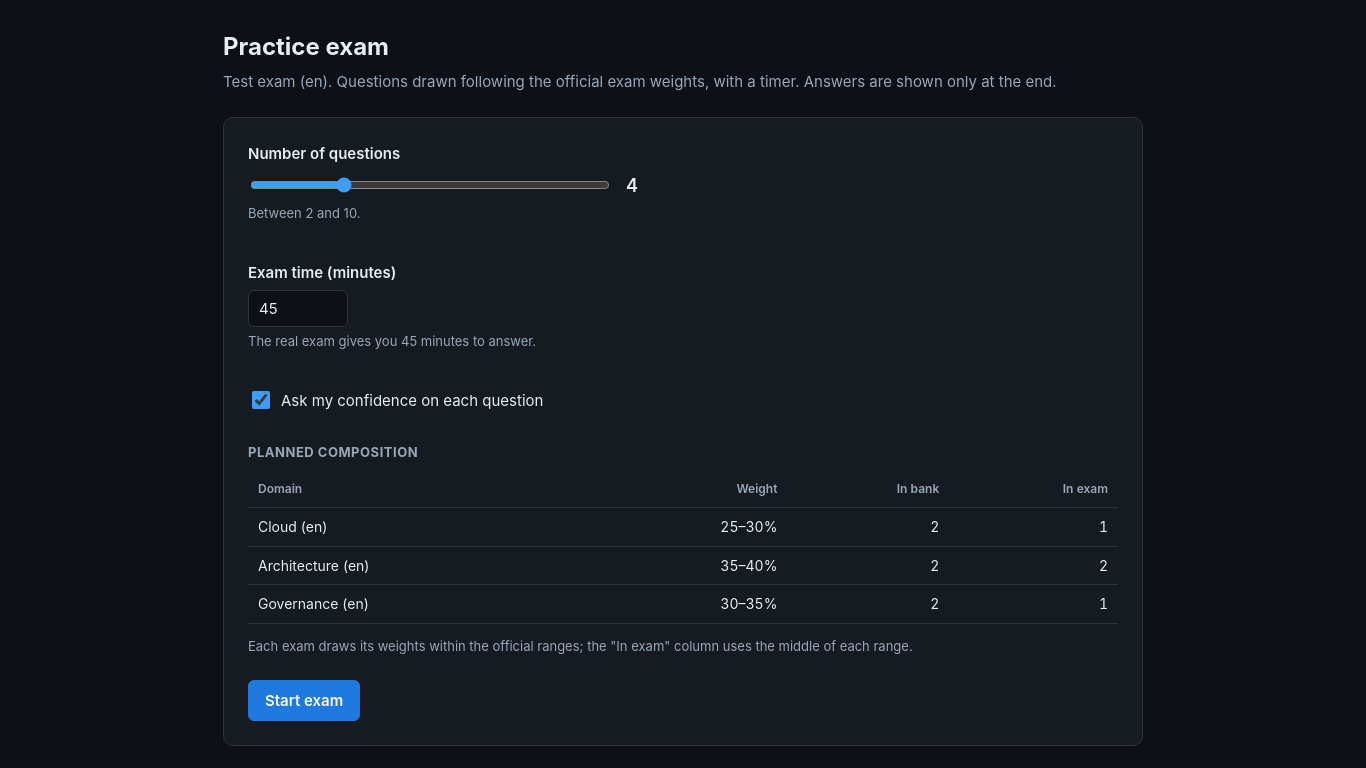
ExamPage › runs an exam from setup to results
Check: the heading "Practice exam" is shown, box [223,32,389,61]
Click the button "Start exam" at {"x": 304, "y": 701}, box [248,680,360,722]
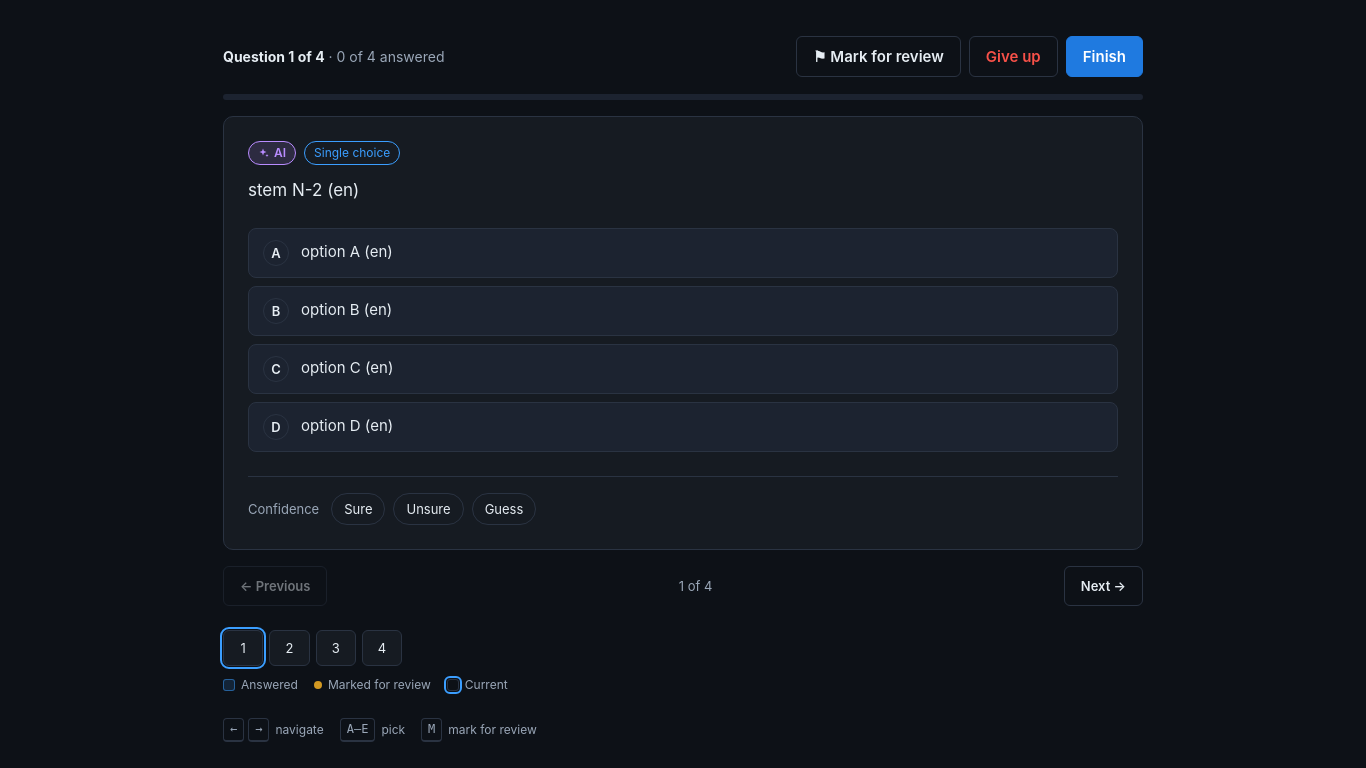
Check: the text "Question 1 of 4" is shown, box [223,48,325,65]
Click the radio button labelled "C option C (en)" at {"x": 347, "y": 367}, box [248,344,1118,394]
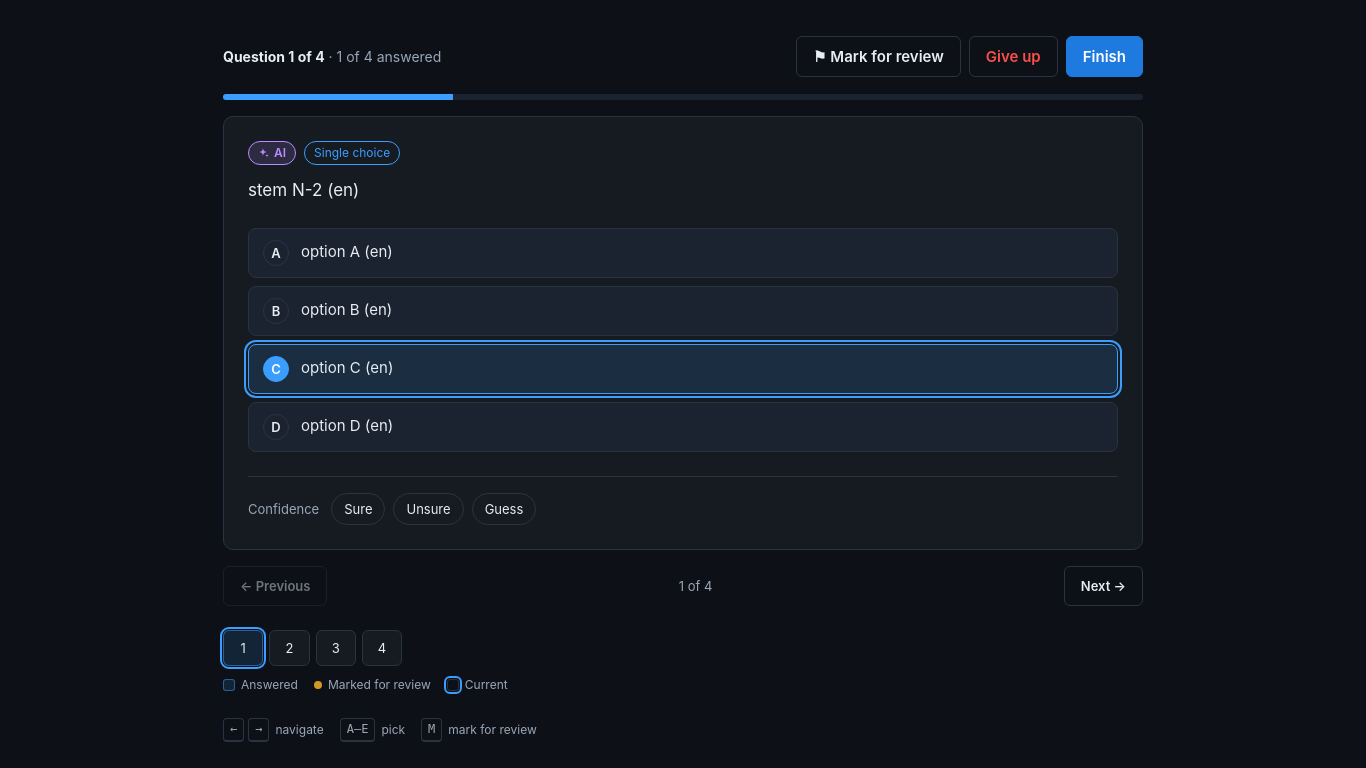
Check: the text "Question 1 of 4 · 1 of 4 answered" is shown, box [223,48,441,65]
Click the button "Finish" at {"x": 1104, "y": 57}, box [1066,36,1143,78]
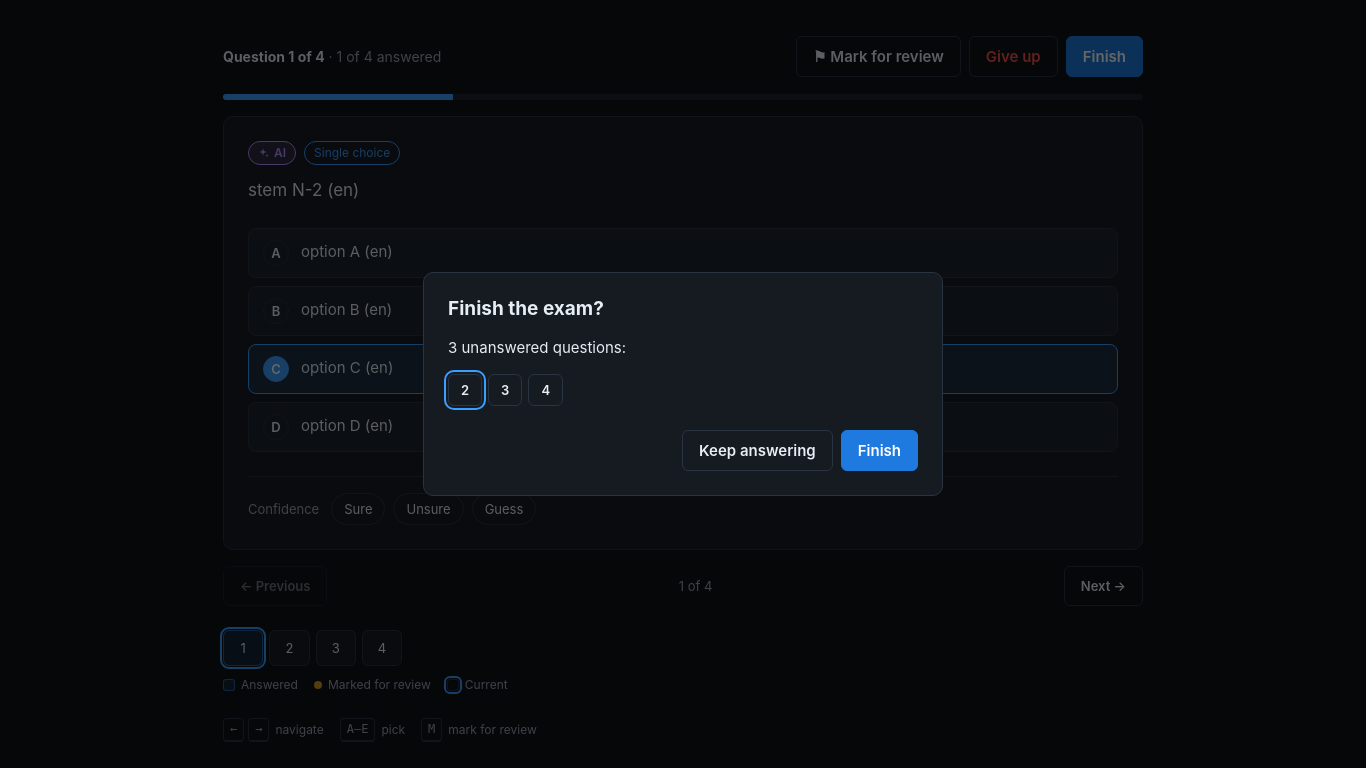
Check: the text "3 unanswered questions:" is shown, box [448,338,626,357]
Click the button "Finish" at {"x": 879, "y": 451}, box [841,430,918,471]
(page scrolled)
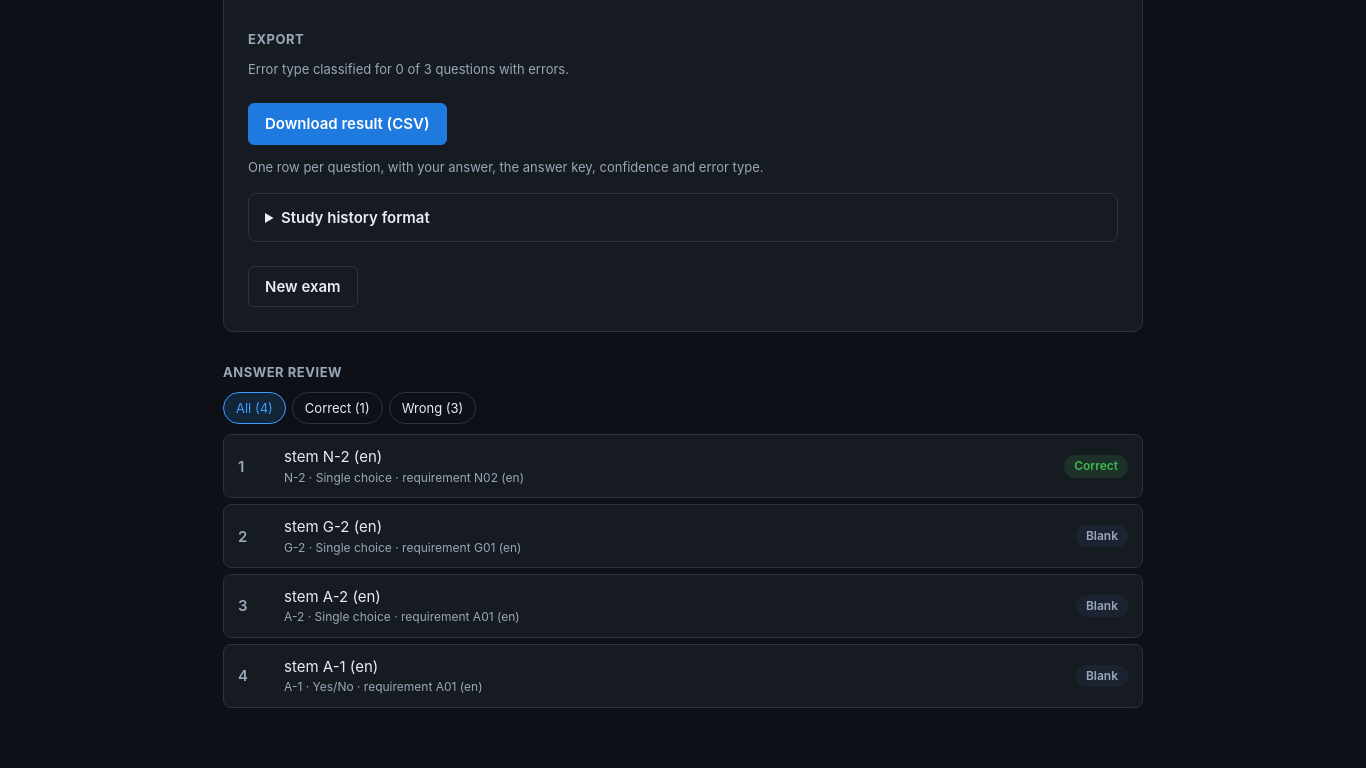
Check: the button "Wrong (3)" is shown, box [389,392,476,424]
